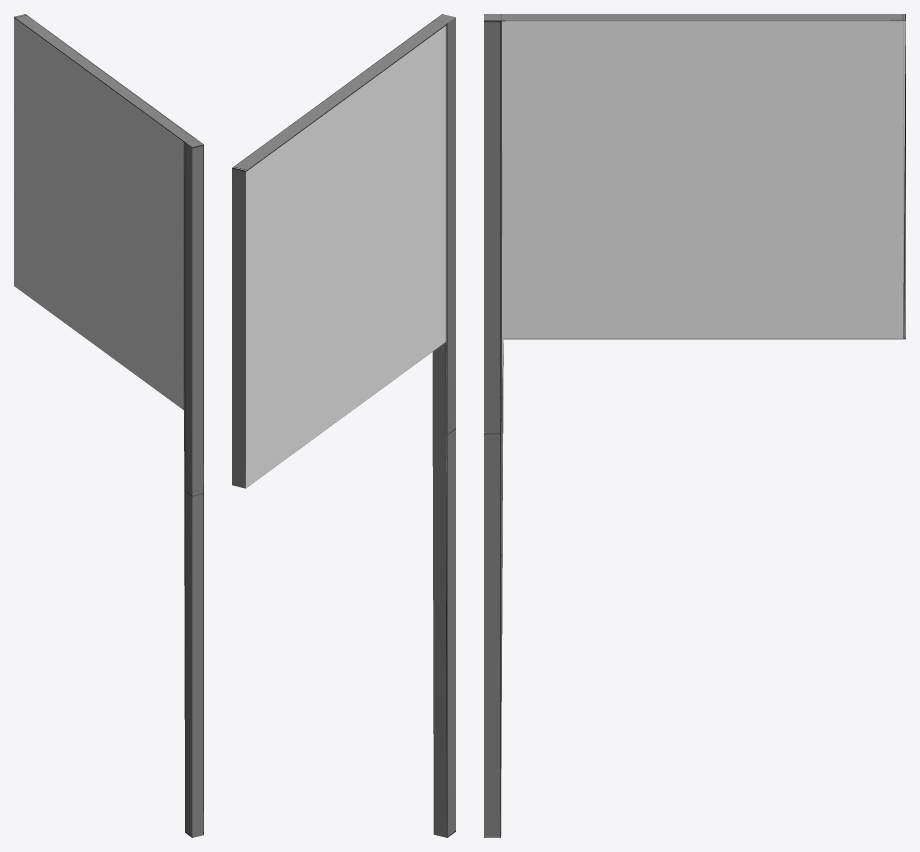
The model's file is baseflag.obj.
3 views of the same model, side by side, from view 1: azimuth 30°, elevation 25°; view 2: azimuth 150°, elevation 25°; view 3: azimuth 270°, elevation 25° (orthographic). The views are drawn at different scales.
Parts seen in each view (by area): view 1: Cube_Cube.001; view 2: Cube_Cube.001; view 3: Cube_Cube.001.
Part boxes in pixels (x1,y1,x2,y2): Cube_Cube.001: (14, 14, 203, 837); Cube_Cube.001: (232, 14, 455, 837); Cube_Cube.001: (484, 14, 905, 837).
Size of the model in its own units: 0.05 by 2.85 by 1.33.
